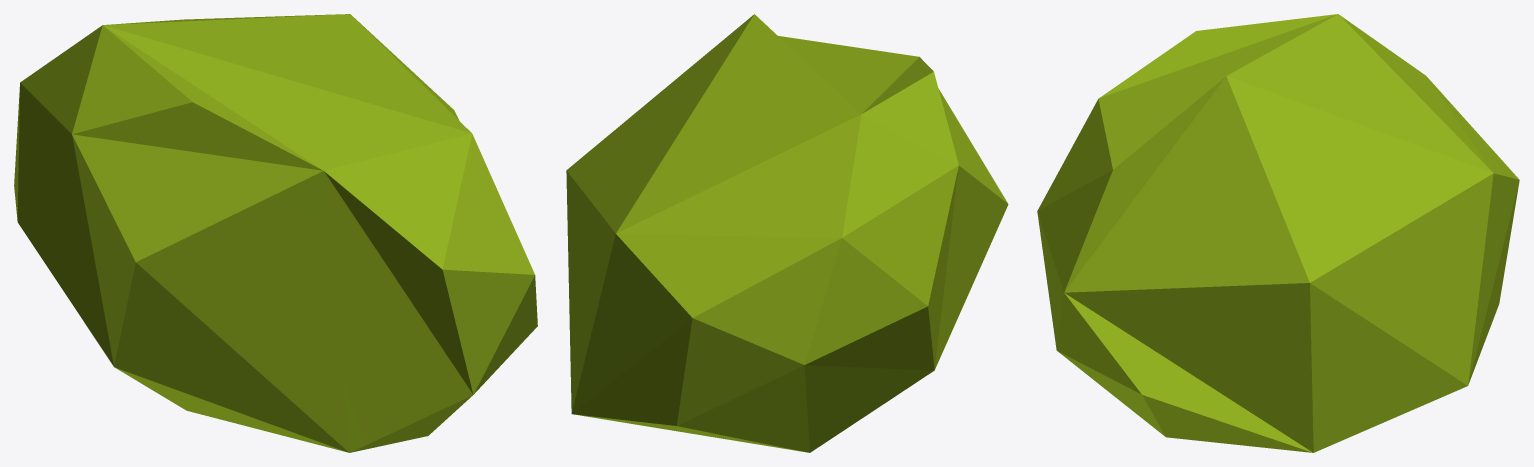
Rendered from Vegetation_Modular_Tree_Foliage_Clump_Small_04.fbx.
3 renders of one model, left to right at view 1: azimuth 30°, elevation 25°; view 2: azimuth 150°, elevation 25°; view 3: azimuth 270°, elevation 25°, orthographic. The views are drawn at different scales.
Visible parts, largest first — view 1: Vegetation_Modular_Tree_Foliage_Clump_Small_04; view 2: Vegetation_Modular_Tree_Foliage_Clump_Small_04; view 3: Vegetation_Modular_Tree_Foliage_Clump_Small_04.
Boxes of the visible parts, x1,y1,x2,y2 form: Vegetation_Modular_Tree_Foliage_Clump_Small_04: (14,14,537,452); Vegetation_Modular_Tree_Foliage_Clump_Small_04: (566,14,1008,452); Vegetation_Modular_Tree_Foliage_Clump_Small_04: (1037,14,1519,452).
Size of the model in its own units: 30.45 by 28.71 by 36.4.
